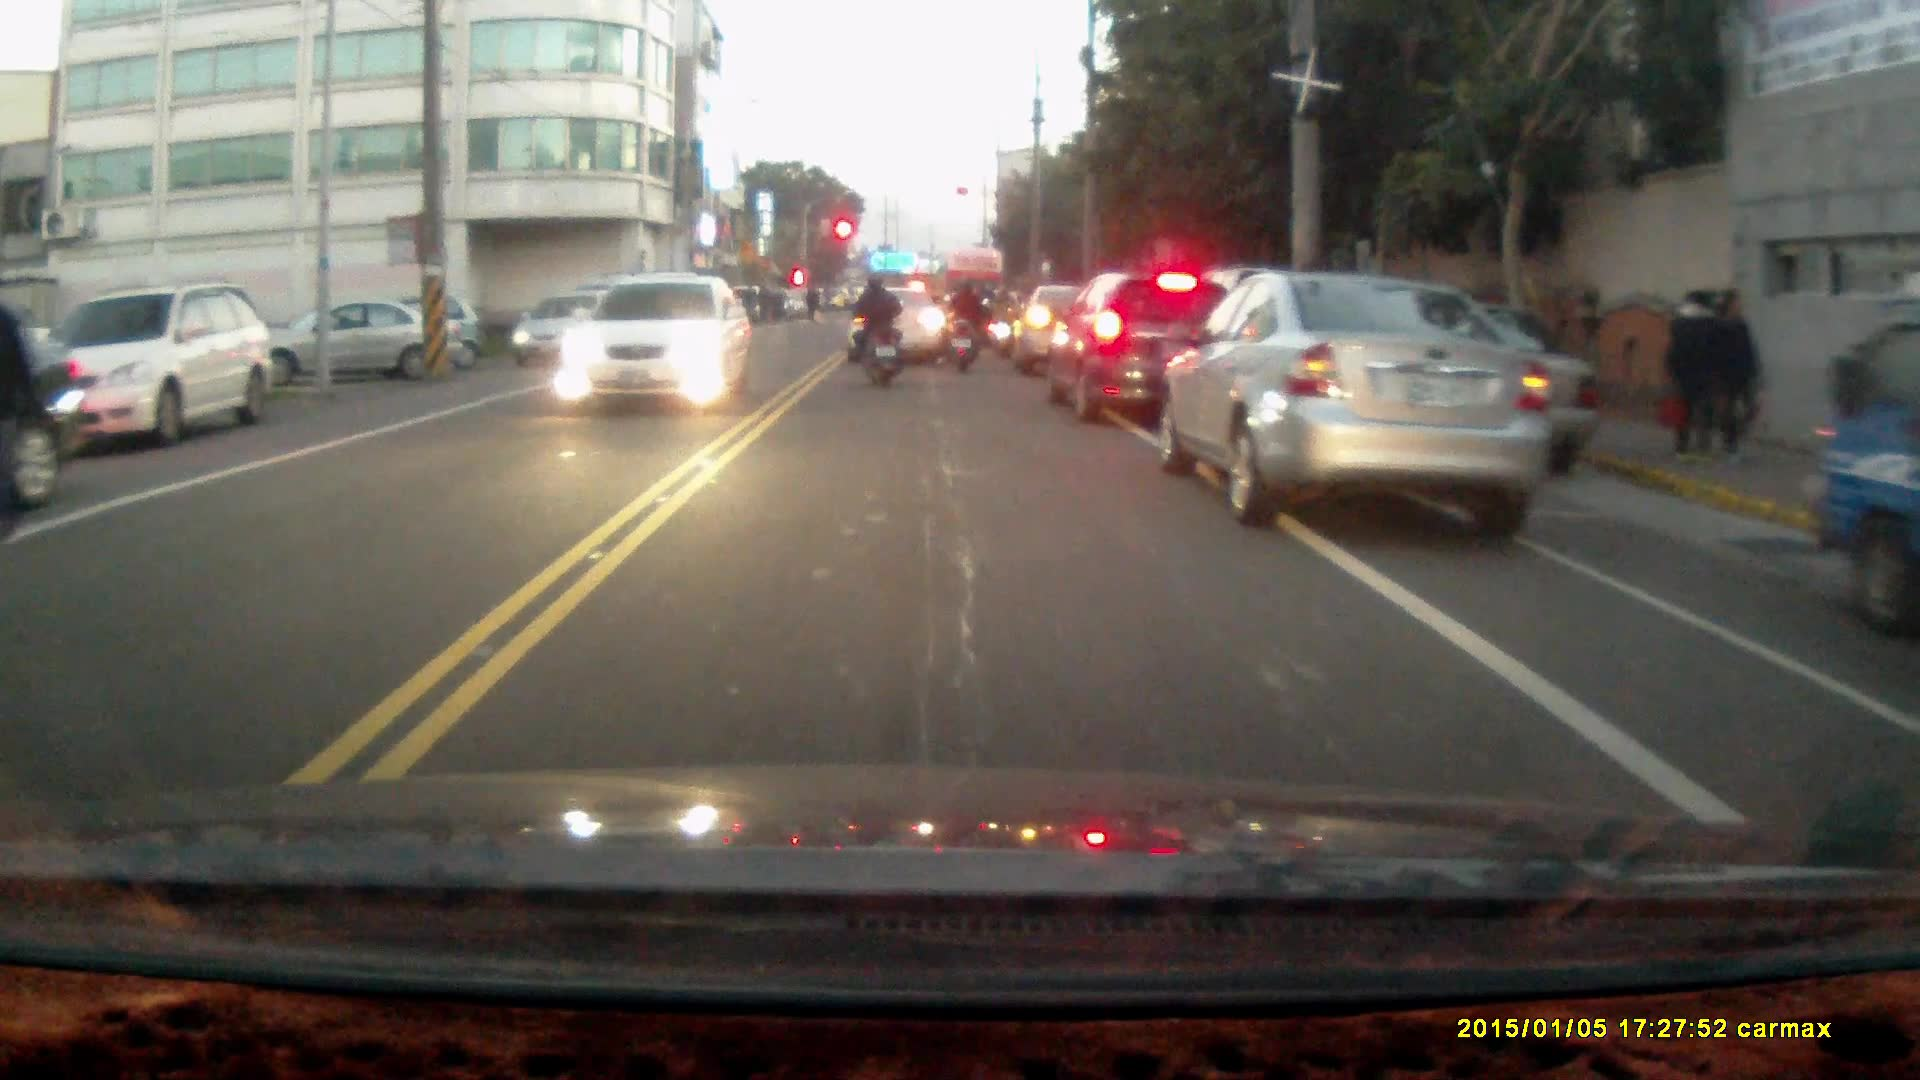pedestrian: (1664, 290, 1722, 467), (1714, 292, 1764, 462)
rider: (848, 268, 901, 385), (940, 274, 989, 369)
vehicle: (1156, 270, 1561, 544), (22, 284, 281, 453), (1805, 344, 1920, 635), (1047, 274, 1232, 427), (554, 274, 752, 415), (261, 299, 466, 382), (1, 324, 87, 522), (518, 290, 629, 374), (850, 291, 953, 369)
